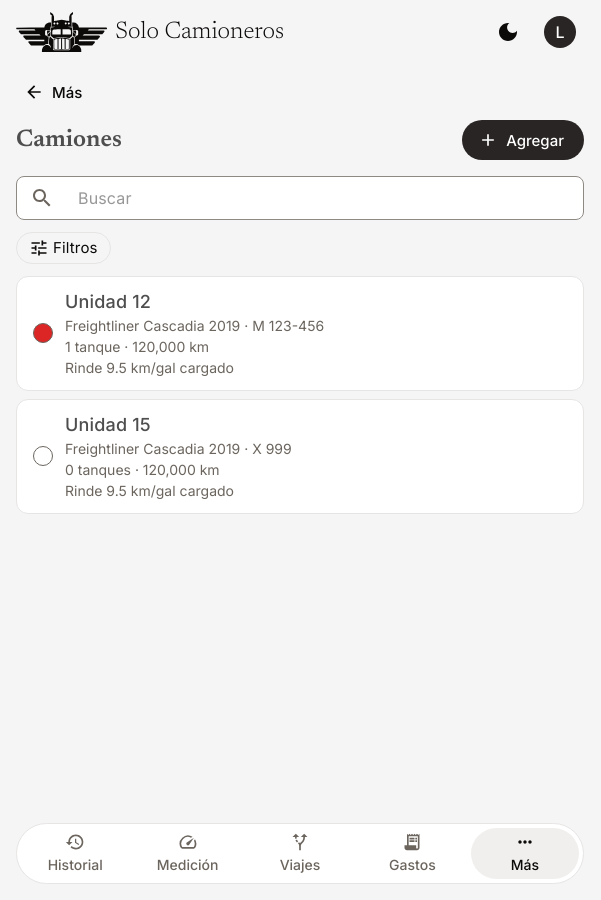
Test: search filters by name or plate and offers to clear
Expected: the button with aria-label "Camión Unidad 12" is shown, [16,276,584,391]
In the search field named "Buscar camiones": [323, 198] box [62,176,584,220], type "x 99"
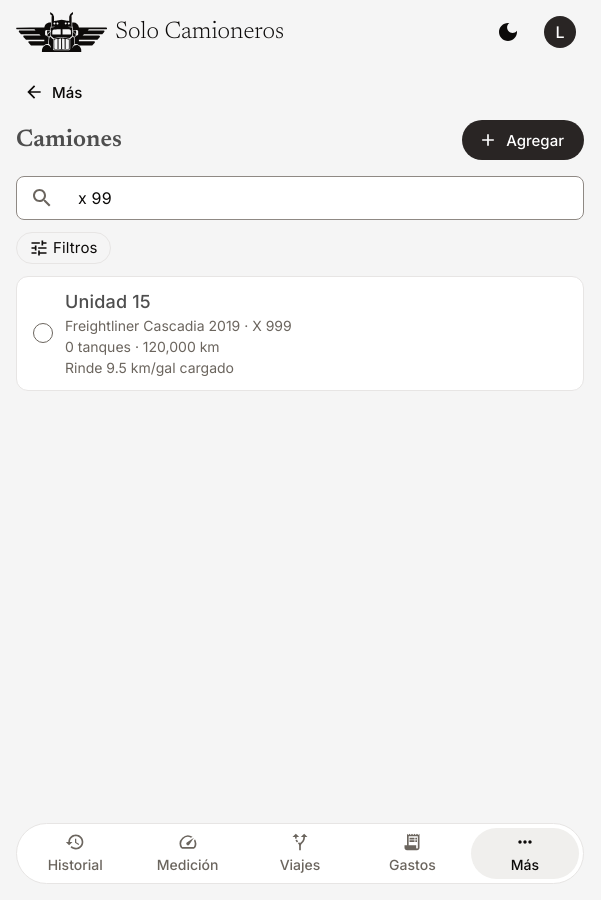
Expected: the button with aria-label "Camión Unidad 15" is shown, [16,276,584,391]
Replace the text in the search field named "Buscar camiones" with "nada": [323, 198] box [62,176,584,220]
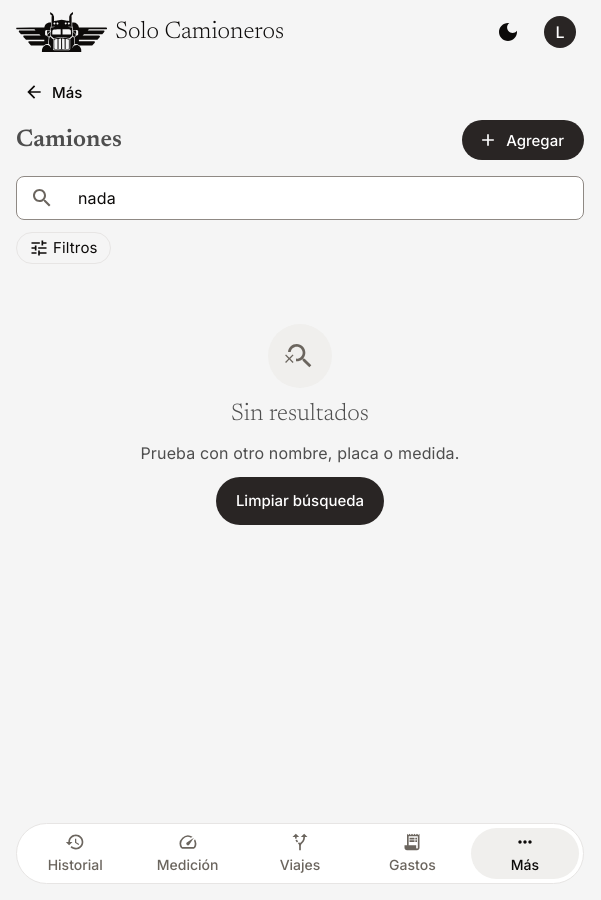
Click the button "Limpiar búsqueda": [300, 501] box [216,477,384,525]
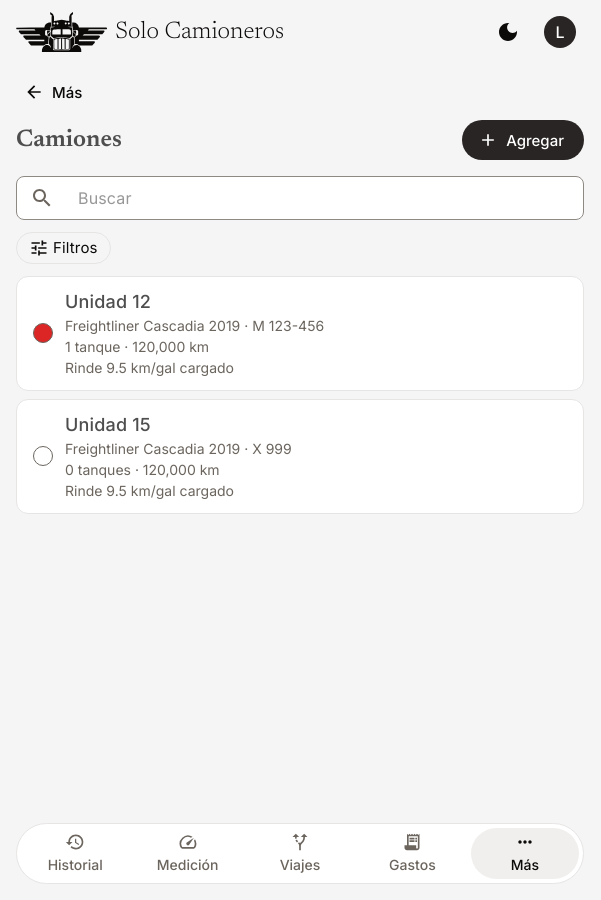
Now the button with aria-label "Camión Unidad 12" is shown, box [16,276,584,391]
